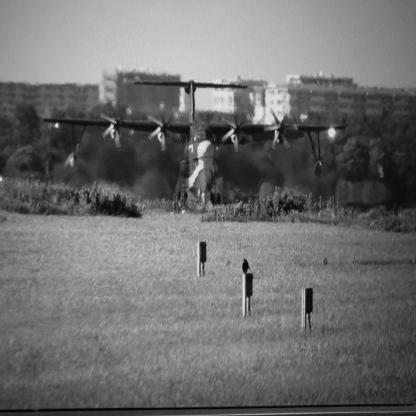US2: (44, 81, 347, 207)
